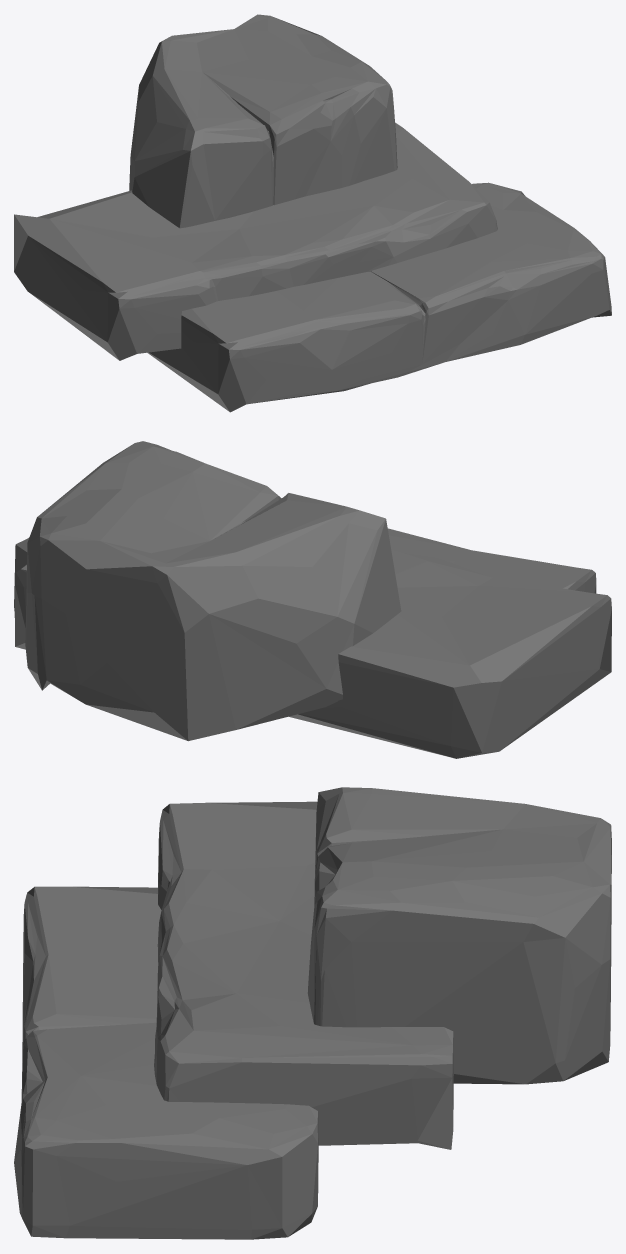
The model's file is Rock_001.fbx.
3 renders of one model, top to bottom at view 1: azimuth 30°, elevation 25°; view 2: azimuth 150°, elevation 25°; view 3: azimuth 270°, elevation 25°, orthographic. The views are drawn at different scales.
Visible parts, largest first — view 1: Rock_001; view 2: Rock_001; view 3: Rock_001.
Part boxes in pixels (x1,y1,x2,y2): Rock_001: (14,14,611,412); Rock_001: (14,441,611,758); Rock_001: (14,787,611,1239).
Size of the model in its own units: 778 by 648 by 323.
Materials: 1 (1 with a texture image).
